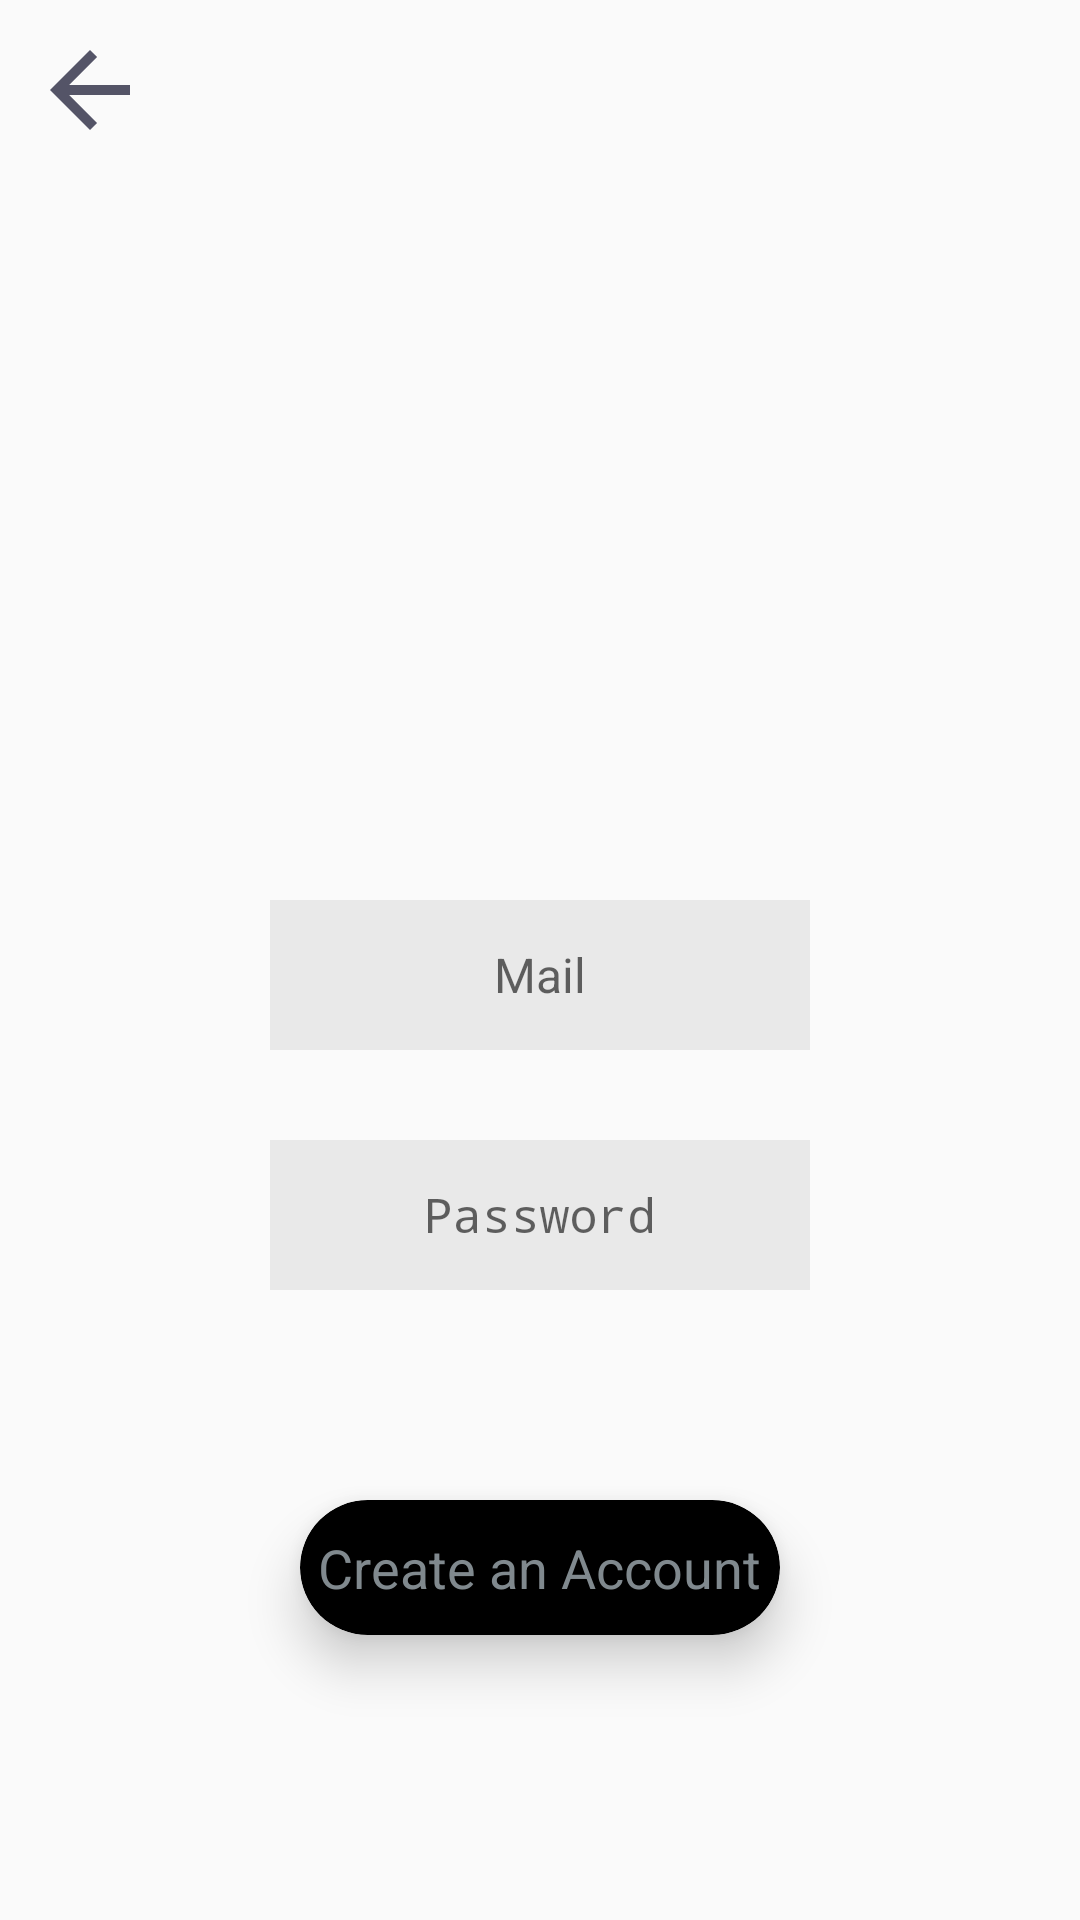

Point at icon controls on the screen. Image size 1080px×1920px, points as (x=x, y=y).
arrow back: (x=90, y=90)
